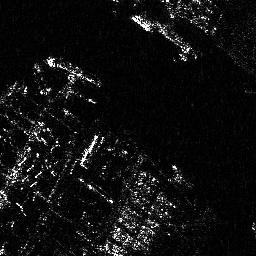ship: (45, 55, 108, 87), (158, 25, 201, 57)
